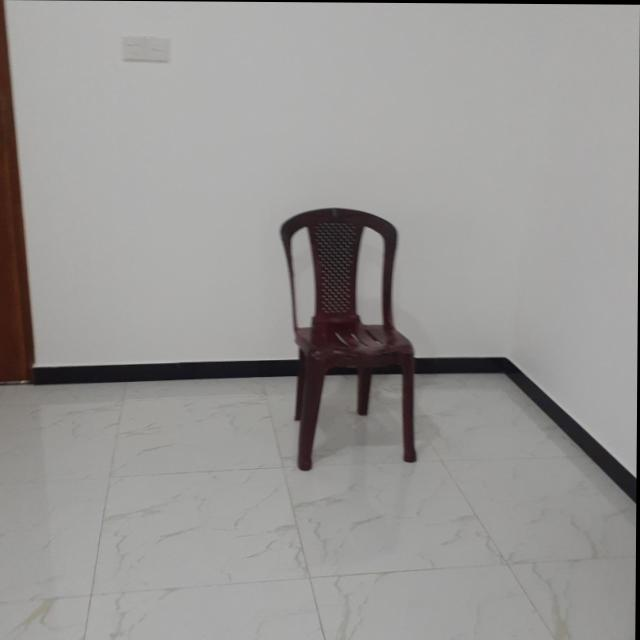Chair: (278, 207, 419, 473)
